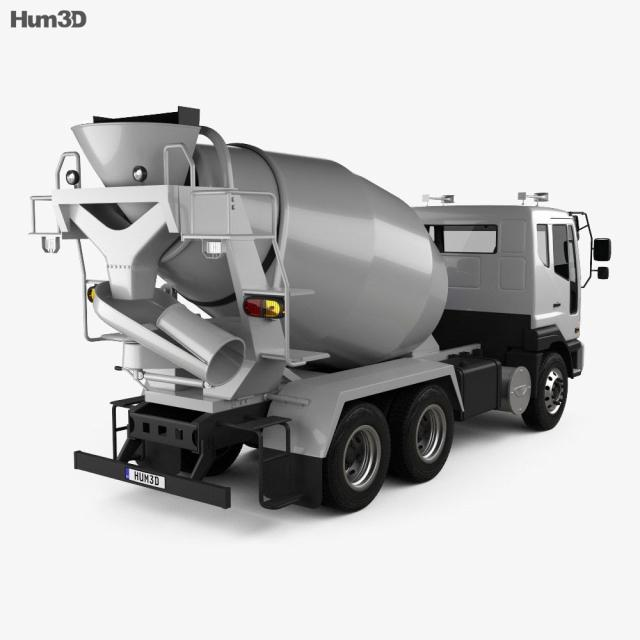Mixer Truck: (28, 107, 610, 515)
